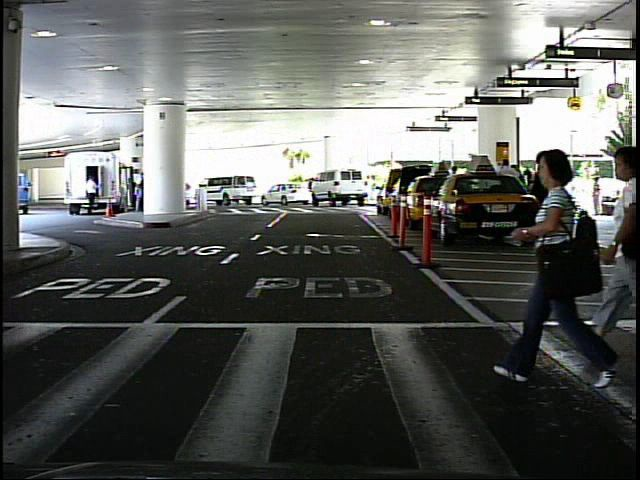person: (517, 138, 606, 396), (588, 172, 607, 218), (85, 172, 103, 218), (365, 171, 379, 205)
